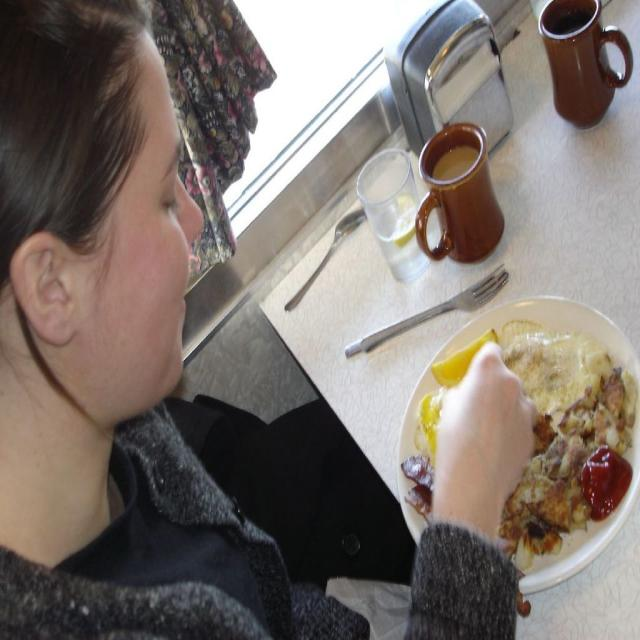Coffee: (428, 145, 481, 179)
Tea: (428, 143, 474, 179)
